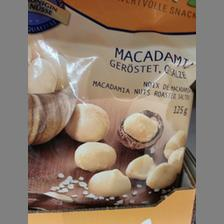Nuss: (26, 0, 193, 208)
